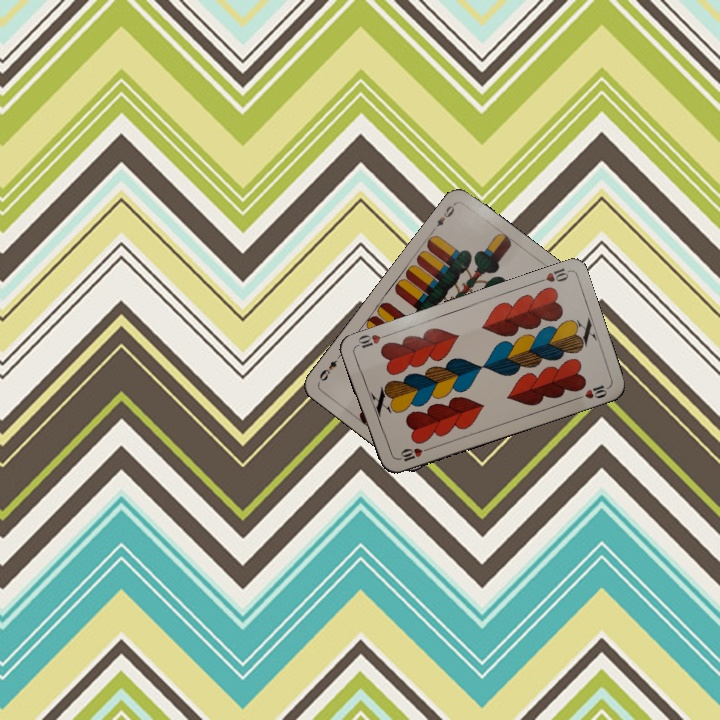E9: (429, 199, 458, 234)
H10: (531, 264, 571, 286), (392, 444, 432, 464)
